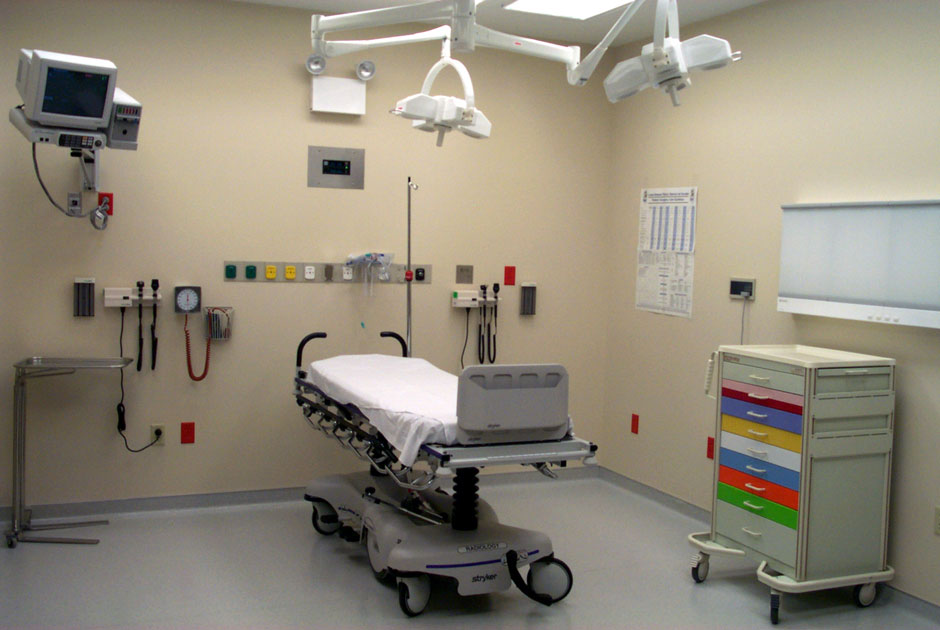bedside_monitor: (15, 49, 117, 131)
foot_board: (449, 357, 580, 445)
handle: (735, 527, 757, 537), (740, 501, 762, 511), (742, 482, 764, 492), (744, 464, 766, 474), (746, 427, 768, 437), (746, 447, 768, 457), (747, 393, 769, 403), (746, 409, 768, 419), (748, 374, 770, 384)
iv_pole: (392, 170, 431, 374)
medical_drawer: (689, 344, 896, 625)
operating_bed: (292, 331, 599, 618)
surgical_light: (602, 34, 743, 107), (389, 92, 492, 148)
utility_cart: (1, 353, 140, 548)
